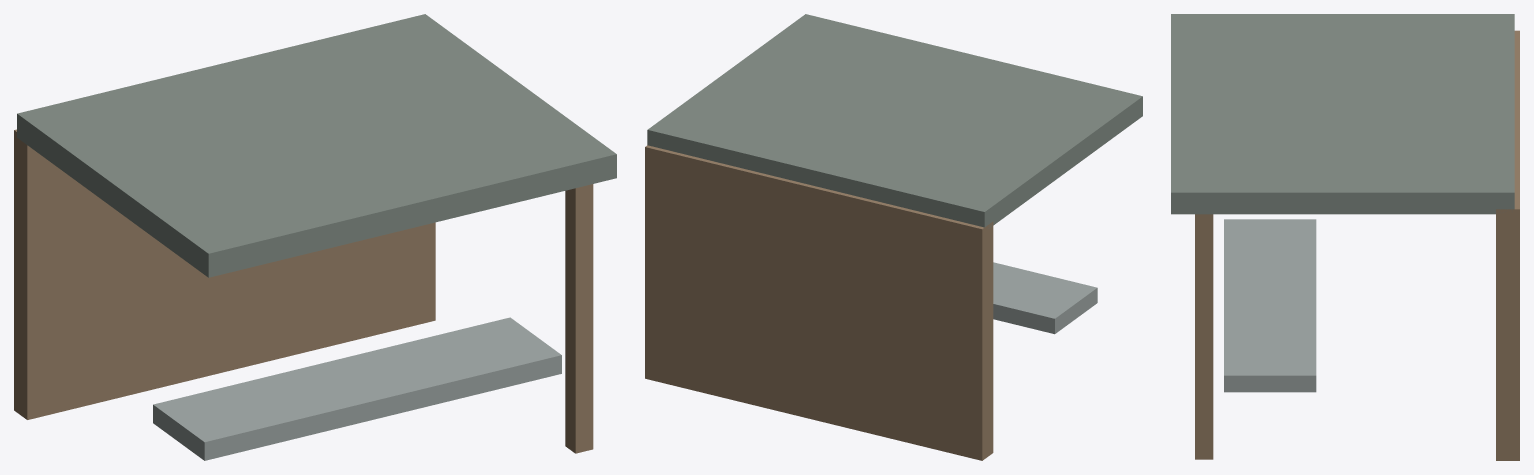
File: animal-shelter-eco.glb
The picture shows the model from 3 angles, left to right: view 1: azimuth 30°, elevation 25°; view 2: azimuth 150°, elevation 25°; view 3: azimuth 270°, elevation 25°; orthographic projection. The views are drawn at different scales.
Parts seen in each view (by area): view 1: roof, back, trough, post; view 2: back, roof, trough; view 3: roof, trough, back, post.
Boxes of the visible parts, x1,y1,x2,y2 form: roof: (17, 14, 616, 277); back: (14, 129, 435, 419); trough: (153, 317, 561, 460); post: (565, 184, 593, 453); back: (645, 145, 993, 460); roof: (647, 14, 1142, 228); trough: (993, 262, 1097, 334); roof: (1171, 14, 1514, 214); trough: (1224, 219, 1316, 392); back: (1496, 30, 1519, 460); post: (1195, 214, 1213, 459).
Size of the model in its own units: 3.2 by 2.27 by 2.64.
